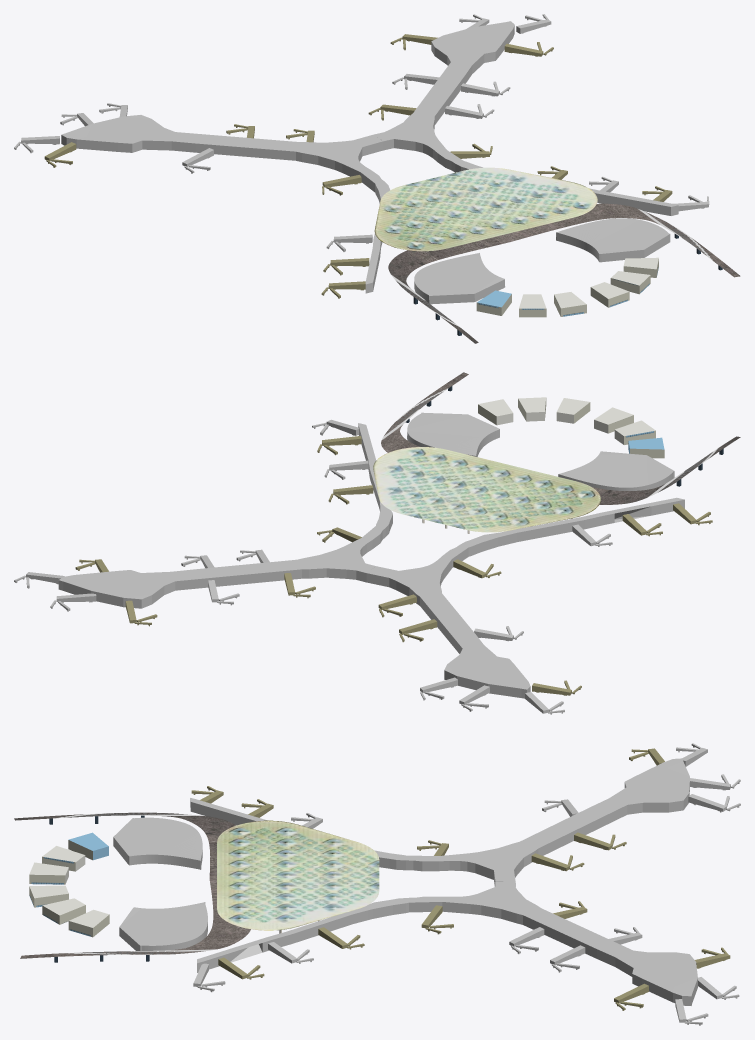
File: T2TerminalWithTexture_pillars.obj
The picture shows the model from 3 angles, top to bottom: view 1: azimuth 30°, elevation 25°; view 2: azimuth 150°, elevation 25°; view 3: azimuth 270°, elevation 25°; orthographic projection. The views are drawn at different scales.
Visible parts, largest first — view 1: Cube.000, object_28, Cylinder.003_Cylinder.016, Plane.001, Plane, Cube_Cube.001, Cube.001_Cube.002, Cube.005_Cube.006, Cube.003_Cube.004, Cube.004_Cube.005, Cube.002_Cube.003; view 2: Cube.000, object_28, Plane, Plane.001, Cylinder.003_Cylinder.016, Cube.003_Cube.004, Cube.002_Cube.003, Cube_Cube.001, Cube.004_Cube.005, Cube.005_Cube.006, Cube.001_Cube.002; view 3: Cube.000, object_28, Plane, Cylinder.003_Cylinder.016, Plane.001, Cube.001_Cube.002, Cube.002_Cube.003, Cube.003_Cube.004, Cube.005_Cube.006, Cube.004_Cube.005, Cube_Cube.001.
Part boxes in pixels (bbox=[...]): Cube.000: bbox=[61, 21, 678, 293]; object_28: bbox=[374, 167, 597, 251]; Cylinder.003_Cylinder.016: bbox=[388, 203, 740, 343]; Plane.001: bbox=[556, 218, 670, 262]; Plane: bbox=[414, 253, 505, 304]; Cube_Cube.001: bbox=[590, 282, 629, 307]; Cube.001_Cube.002: bbox=[610, 271, 650, 294]; Cube.005_Cube.006: bbox=[476, 290, 511, 315]; Cube.003_Cube.004: bbox=[554, 292, 586, 316]; Cube.004_Cube.005: bbox=[519, 294, 546, 317]; Cube.002_Cube.003: bbox=[623, 257, 658, 277]; Cube.000: bbox=[58, 423, 684, 698]; object_28: bbox=[373, 447, 600, 532]; Plane: bbox=[558, 451, 674, 490]; Plane.001: bbox=[407, 412, 499, 456]; Cylinder.003_Cylinder.016: bbox=[381, 372, 740, 504]; Cube.003_Cube.004: bbox=[594, 407, 633, 433]; Cube.002_Cube.003: bbox=[478, 399, 513, 425]; Cube_Cube.001: bbox=[556, 398, 590, 423]; Cube.004_Cube.005: bbox=[614, 420, 655, 444]; Cube.005_Cube.006: bbox=[628, 437, 664, 458]; Cube.001_Cube.002: bbox=[518, 397, 546, 421]; Cube.000: bbox=[190, 758, 697, 1005]; object_28: bbox=[217, 820, 379, 930]; Plane: bbox=[113, 817, 202, 869]; Cylinder.003_Cylinder.016: bbox=[14, 812, 250, 958]; Plane.001: bbox=[119, 902, 207, 950]; Cube.001_Cube.002: bbox=[42, 898, 85, 924]; Cube.002_Cube.003: bbox=[68, 909, 109, 937]; Cube.003_Cube.004: bbox=[29, 862, 68, 884]; Cube.005_Cube.006: bbox=[68, 832, 108, 860]; Cube.004_Cube.005: bbox=[42, 846, 85, 871]; Cube_Cube.001: bbox=[29, 885, 68, 907].
Size of the model in its own units: 1664 by 43.07 by 1827.
